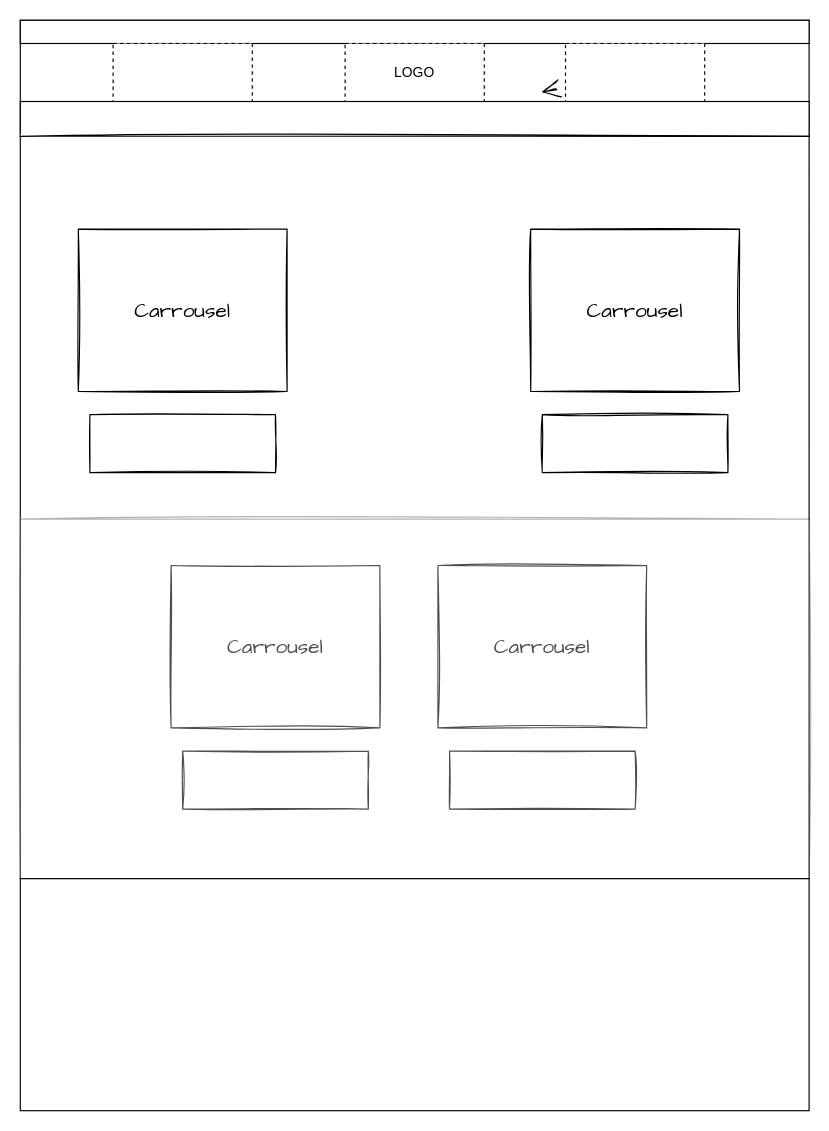
Some shapes in this 829 by 1131 pixel diagram are drawn without their labels. Here are the shapes that lost their labels. From the top down, the box of each, then its label:
(19, 100, 809, 136): BARRA DE NAVEGACIÓN
(19, 878, 809, 1111): PIE
